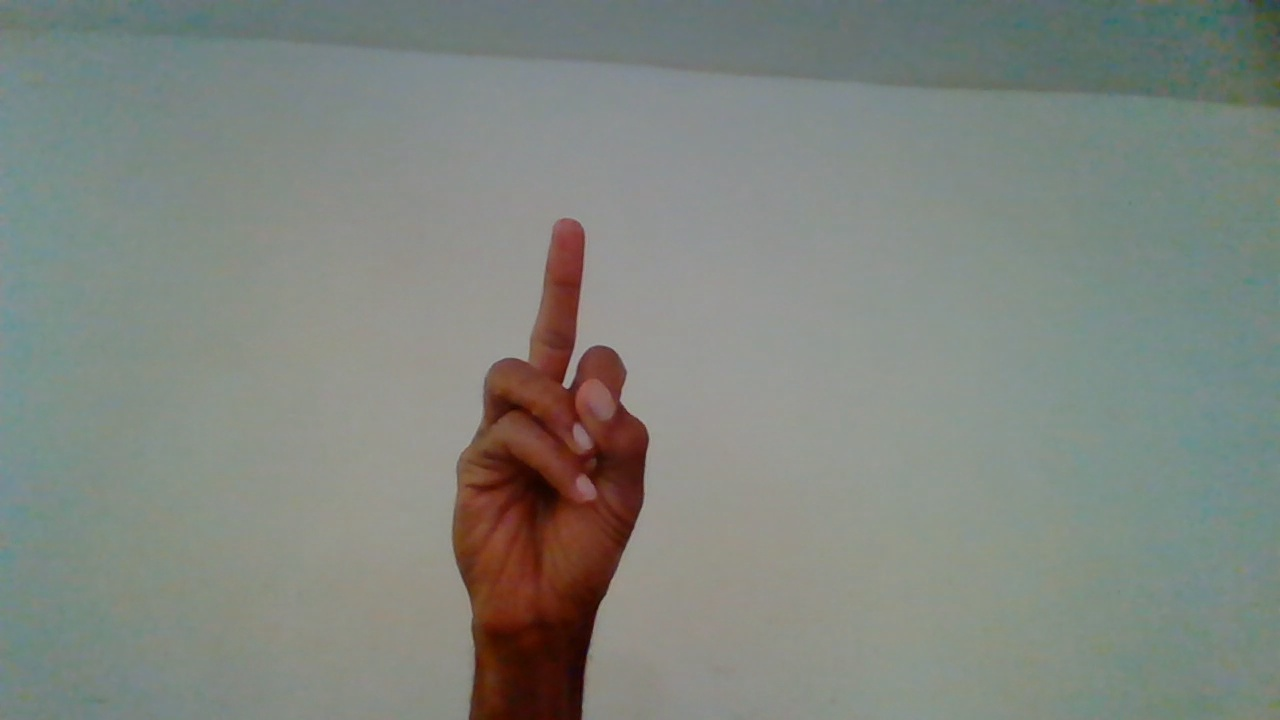he: (458, 216, 660, 716)
